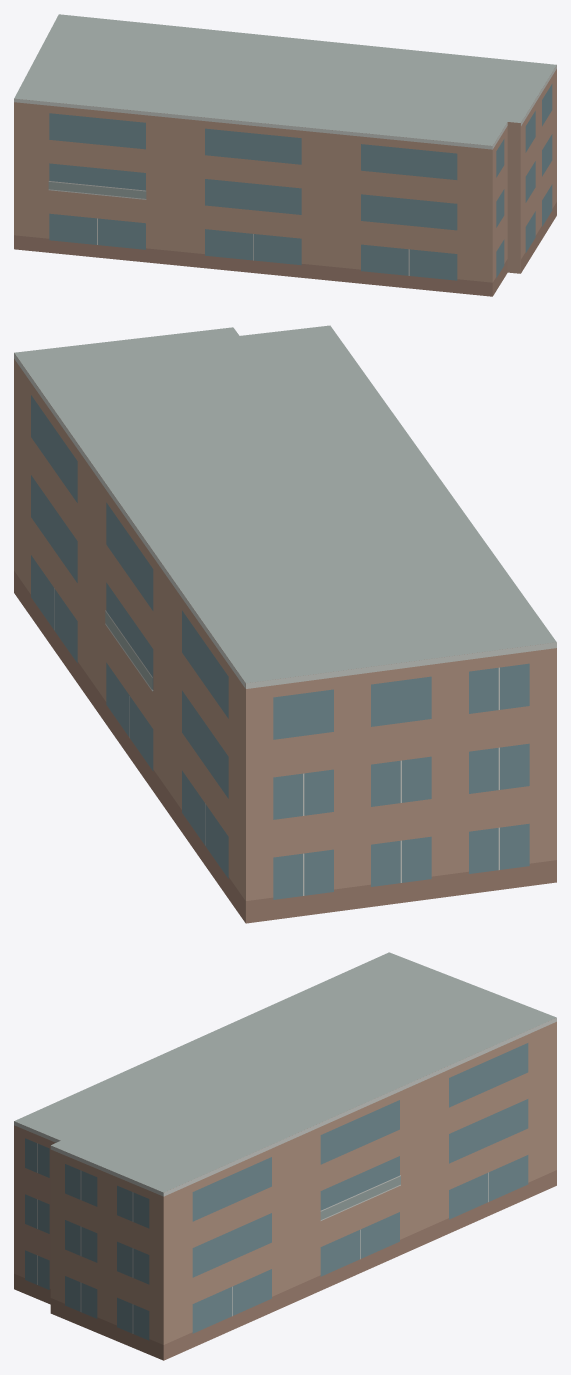
File: survey-upis-32881496.glb
The picture shows the model from 3 angles, top to bottom: view 1: azimuth 30°, elevation 25°; view 2: azimuth 150°, elevation 25°; view 3: azimuth 270°, elevation 25°; orthographic projection. The views are drawn at different scales.
Visible parts, largest first — view 1: survey-upis-32881496.tmp; view 2: survey-upis-32881496.tmp; view 3: survey-upis-32881496.tmp.
Part boxes in pixels (x1,y1,x2,y2): survey-upis-32881496.tmp: (14,14,556,296); survey-upis-32881496.tmp: (14,325,556,923); survey-upis-32881496.tmp: (14,952,556,1360).
Size of the model in its own units: 30.98 by 10.1 by 29.57.
